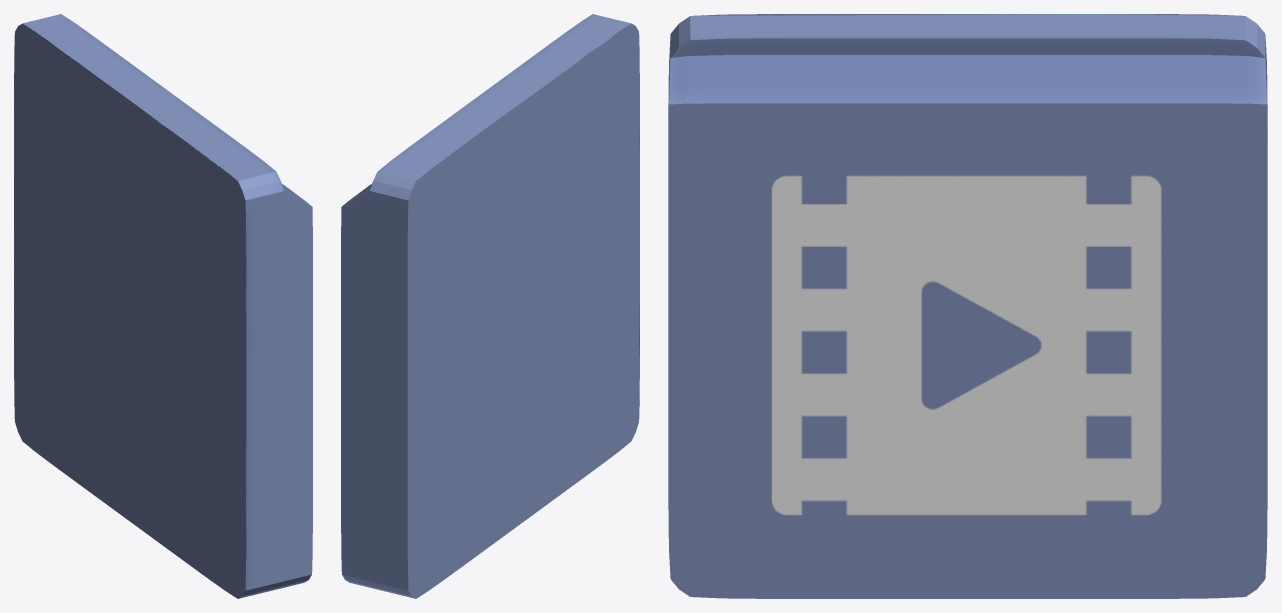
File: app.fbx
The picture shows the model from 3 angles, left to right: view 1: azimuth 30°, elevation 25°; view 2: azimuth 150°, elevation 25°; view 3: azimuth 270°, elevation 25°; orthographic projection. The views are drawn at different scales.
Visible parts, largest first — view 1: Cube; view 2: Cube; view 3: Cube.
Boxes of the visible parts, x1,y1,x2,y2 form: Cube: (14, 14, 312, 598); Cube: (341, 14, 639, 598); Cube: (668, 14, 1267, 598).
Size of the model in its own units: 0.2984 by 1.8 by 1.8.
